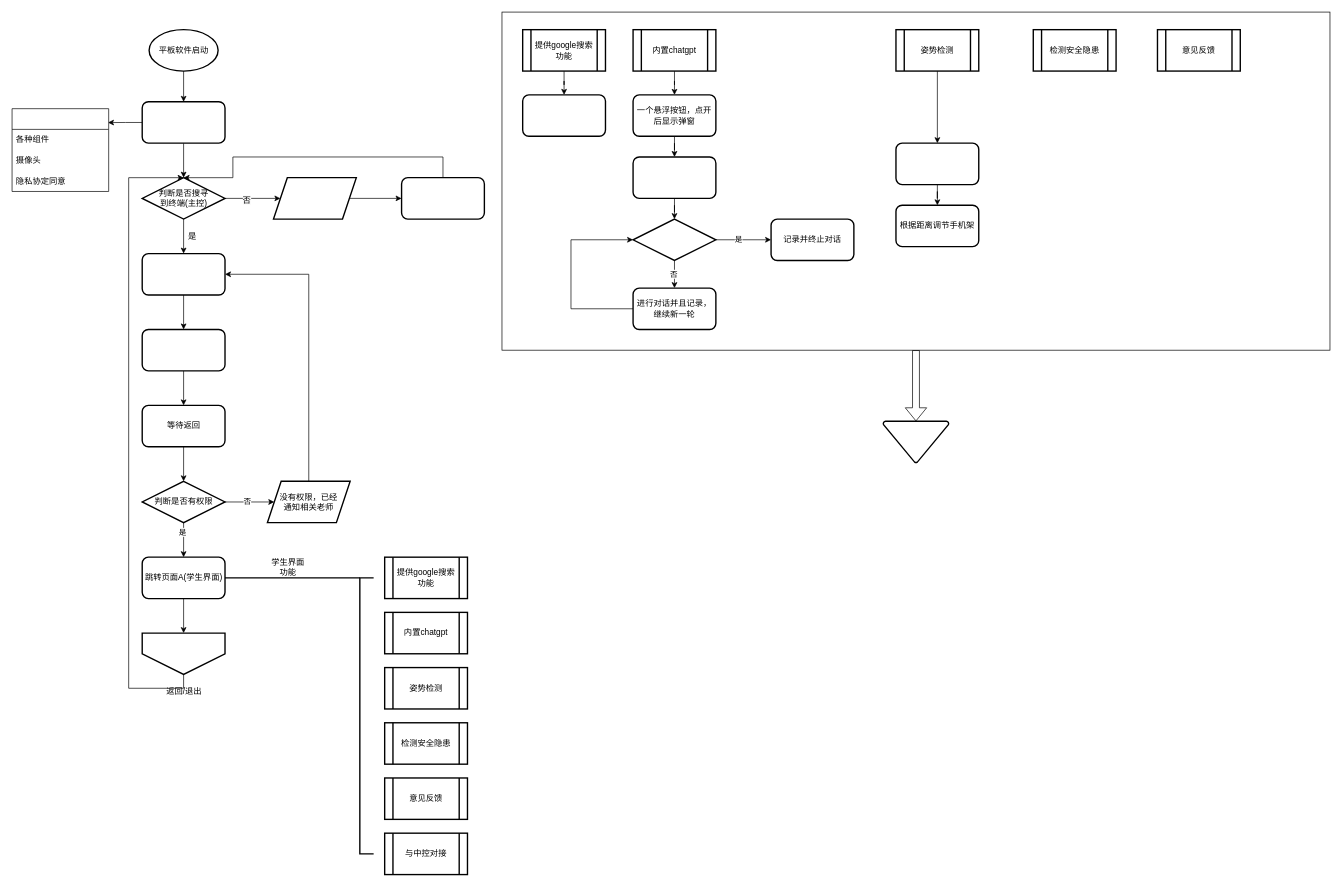
Image size: 1342x887. Some labels were removed from this diagram. The box of each missing label's shape, as (x1, y1, x2, y2) in pixels:
传输至中控: (882, 420, 949, 463)
内容是否违规: (632, 218, 716, 261)
初始化: (141, 101, 225, 144)
初始化内容: (11, 108, 109, 191)
后台摄像头记录，直到连接到网络: (401, 177, 485, 219)
启动摄像头进行人脸捕获: (141, 253, 225, 295)
学生点击发送时: (632, 156, 716, 199)
将捕获到的人脸图片发送至终端: (141, 328, 225, 371)
提供一个上网界面并且记录搜索内容: (522, 94, 606, 137)
禁止使用，并提示需要连接到特定网络: (272, 177, 357, 219)
计算两眼距离: (895, 142, 979, 185)
